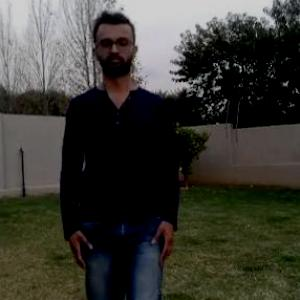follow: (67, 2, 164, 299)
